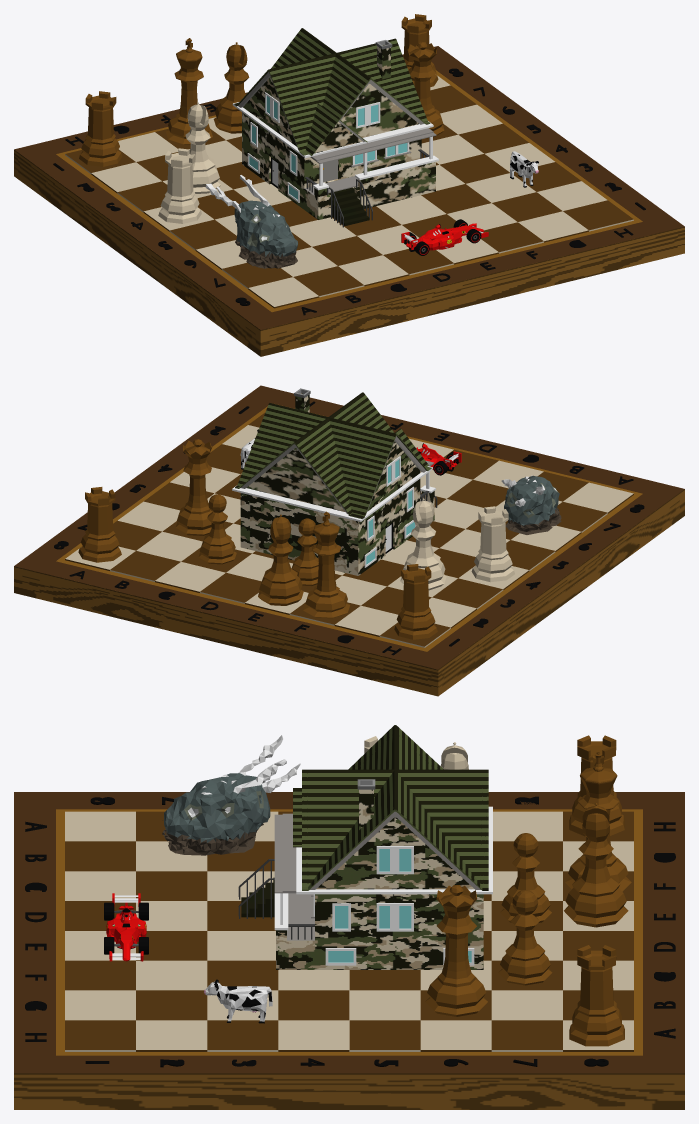
The picture shows the model from 3 angles, top to bottom: view 1: azimuth 30°, elevation 25°; view 2: azimuth 150°, elevation 25°; view 3: azimuth 270°, elevation 25°; orthographic projection. The views are drawn at different scales.
Parts seen in each view (by area): view 1: Cube.002, Cube.001, OBJRANDOM_METEORITE, VEHICLES_FORMULA_1, ANIMAL_VACA; view 2: Cube.002, Cube.001, OBJRANDOM_METEORITE, VEHICLES_FORMULA_1; view 3: Cube.002, Cube.001, OBJRANDOM_METEORITE, VEHICLES_FORMULA_1, ANIMAL_VACA.
Boxes of the visible parts, box(x1,y1,x2,y2) form: Cube.002: box(14, 14, 684, 356); Cube.001: box(232, 28, 438, 227); OBJRANDOM_METEORITE: box(205, 175, 298, 268); VEHICLES_FORMULA_1: box(401, 219, 488, 255); ANIMAL_VACA: box(510, 151, 538, 187); Cube.002: box(14, 385, 684, 696); Cube.001: box(232, 388, 437, 575); OBJRANDOM_METEORITE: box(501, 475, 561, 534); VEHICLES_FORMULA_1: box(416, 443, 461, 475); Cube.002: box(14, 735, 684, 1109); Cube.001: box(238, 725, 492, 969); OBJRANDOM_METEORITE: box(162, 735, 300, 855); VEHICLES_FORMULA_1: box(104, 893, 148, 961); ANIMAL_VACA: box(204, 979, 272, 1023).
Bounding box in the file's own units: 3981 × 1491 × 4012.
Materials: 35 (4 with a texture image).
